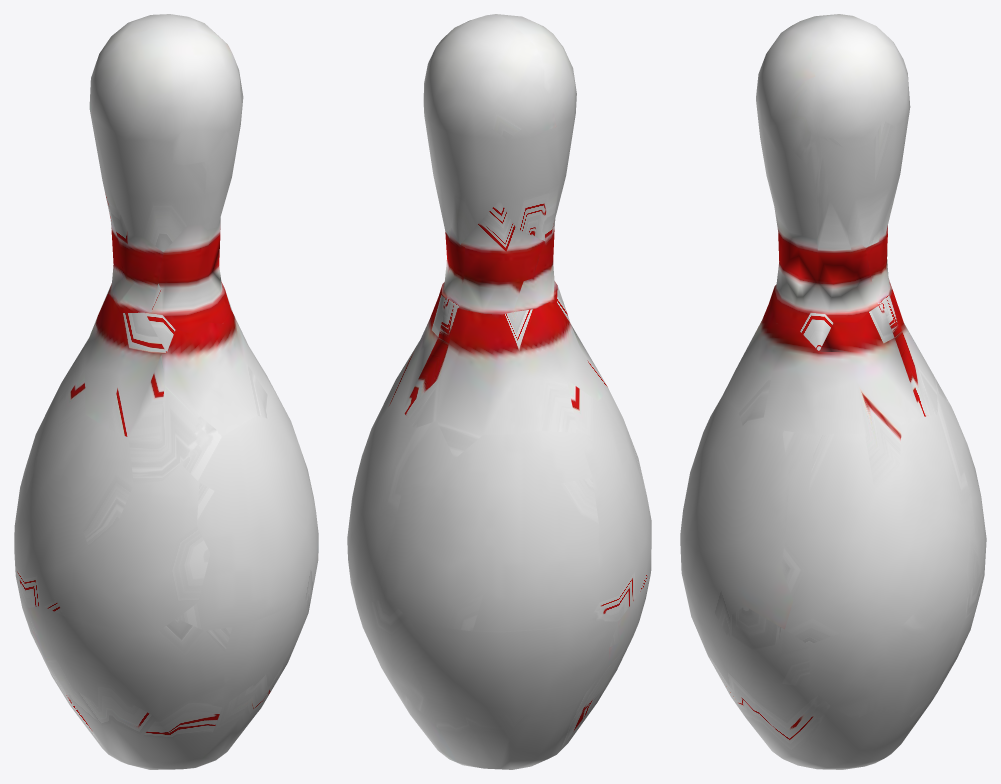
The model's file is bowling-pin.glb.
3 views of the same model, side by side, from view 1: azimuth 30°, elevation 25°; view 2: azimuth 150°, elevation 25°; view 3: azimuth 270°, elevation 25° (orthographic).
Parts seen in each view (by area): view 1: tripo_node_563b0479-5b1f-4273-99fc-d0cebe8e6959; view 2: tripo_node_563b0479-5b1f-4273-99fc-d0cebe8e6959; view 3: tripo_node_563b0479-5b1f-4273-99fc-d0cebe8e6959.
Boxes of the visible parts, left/top/right/bottom form: tripo_node_563b0479-5b1f-4273-99fc-d0cebe8e6959: left=14, top=14, right=318, bottom=769; tripo_node_563b0479-5b1f-4273-99fc-d0cebe8e6959: left=347, top=14, right=651, bottom=769; tripo_node_563b0479-5b1f-4273-99fc-d0cebe8e6959: left=680, top=14, right=986, bottom=769.
Bounding box in the file's own units: 0.3734 × 0.9785 × 0.3753.
1 material, 1 textured.
